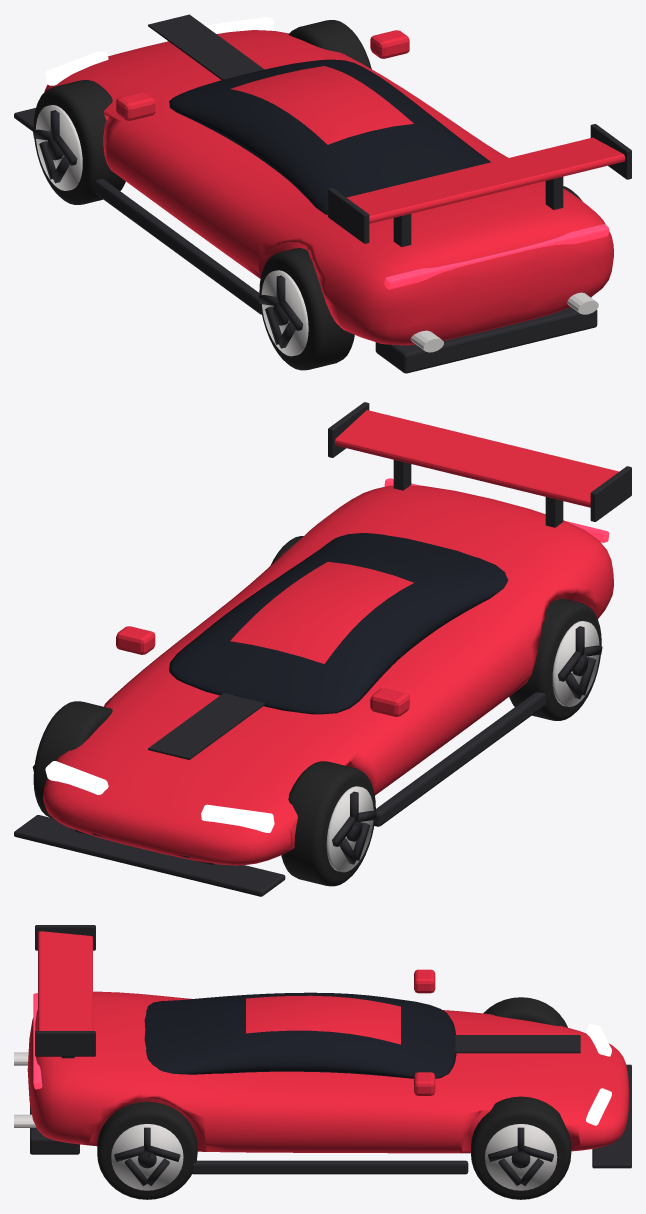
Rendered from car_v1_classic.glb.
3 views of the same model, one above another, from view 1: azimuth 30°, elevation 25°; view 2: azimuth 150°, elevation 25°; view 3: azimuth 270°, elevation 25° (orthographic). The views are drawn at different scales.
Visible parts, largest first — view 1: Body, Cabin, wing, wheel_FL, wheel_RL, diffuser, skirt_-1, hood_stripe, taillight, wheel_FR, wing_end_-1, mirror_1 (+7 smaller); view 2: Body, Cabin, wing, wheel_FL, wheel_RL, splitter, skirt_-1, hood_stripe, wheel_FR, wing_end_-1, headlight_-1, headlight_1 (+3 smaller); view 3: Body, Cabin, wheel_FR, wheel_RR, wing, skirt_1, hood_stripe, wing_end_1, wheel_FL, splitter, diffuser, wing_end_-1 (+5 smaller).
Boxes of the visible parts, bbox=[...] form: Body: bbox=[44, 30, 613, 345]; Cabin: bbox=[169, 59, 490, 214]; wing: bbox=[347, 137, 625, 223]; wheel_FL: bbox=[33, 80, 125, 204]; wheel_RL: bbox=[258, 248, 354, 370]; diffuser: bbox=[375, 307, 597, 373]; skirt_-1: bbox=[95, 179, 261, 314]; hood_stripe: bbox=[148, 14, 264, 79]; taillight: bbox=[384, 224, 609, 289]; wheel_FR: bbox=[288, 20, 371, 69]; wing_end_-1: bbox=[328, 188, 369, 243]; mirror_1: bbox=[370, 30, 409, 58]; Body: bbox=[43, 485, 613, 865]; Cabin: bbox=[169, 533, 508, 714]; wing: bbox=[334, 410, 618, 507]; wheel_FL: bbox=[281, 761, 376, 886]; wheel_RL: bbox=[509, 598, 602, 720]; splitter: bbox=[14, 815, 285, 896]; skirt_-1: bbox=[374, 692, 545, 826]; hood_stripe: bbox=[148, 693, 265, 759]; wheel_FR: bbox=[32, 701, 112, 818]; wing_end_-1: bbox=[590, 466, 631, 521]; headlight_-1: bbox=[201, 804, 274, 832]; headlight_1: bbox=[45, 761, 108, 794]; Body: bbox=[27, 991, 629, 1153]; Cabin: bbox=[144, 992, 456, 1078]; wheel_FR: bbox=[471, 1096, 571, 1199]; wheel_RR: bbox=[97, 1101, 197, 1199]; wing: bbox=[38, 931, 92, 1030]; skirt_1: bbox=[191, 1160, 468, 1174]; hood_stripe: bbox=[455, 1035, 580, 1053]; wing_end_1: bbox=[35, 1031, 95, 1056]; wheel_FL: bbox=[483, 997, 567, 1027]; splitter: bbox=[592, 1064, 631, 1168]; diffuser: bbox=[30, 1105, 79, 1154]; wing_end_-1: bbox=[35, 925, 95, 950].
Bounding box in the file's own units: 2.2 × 1.38 × 4.68.
